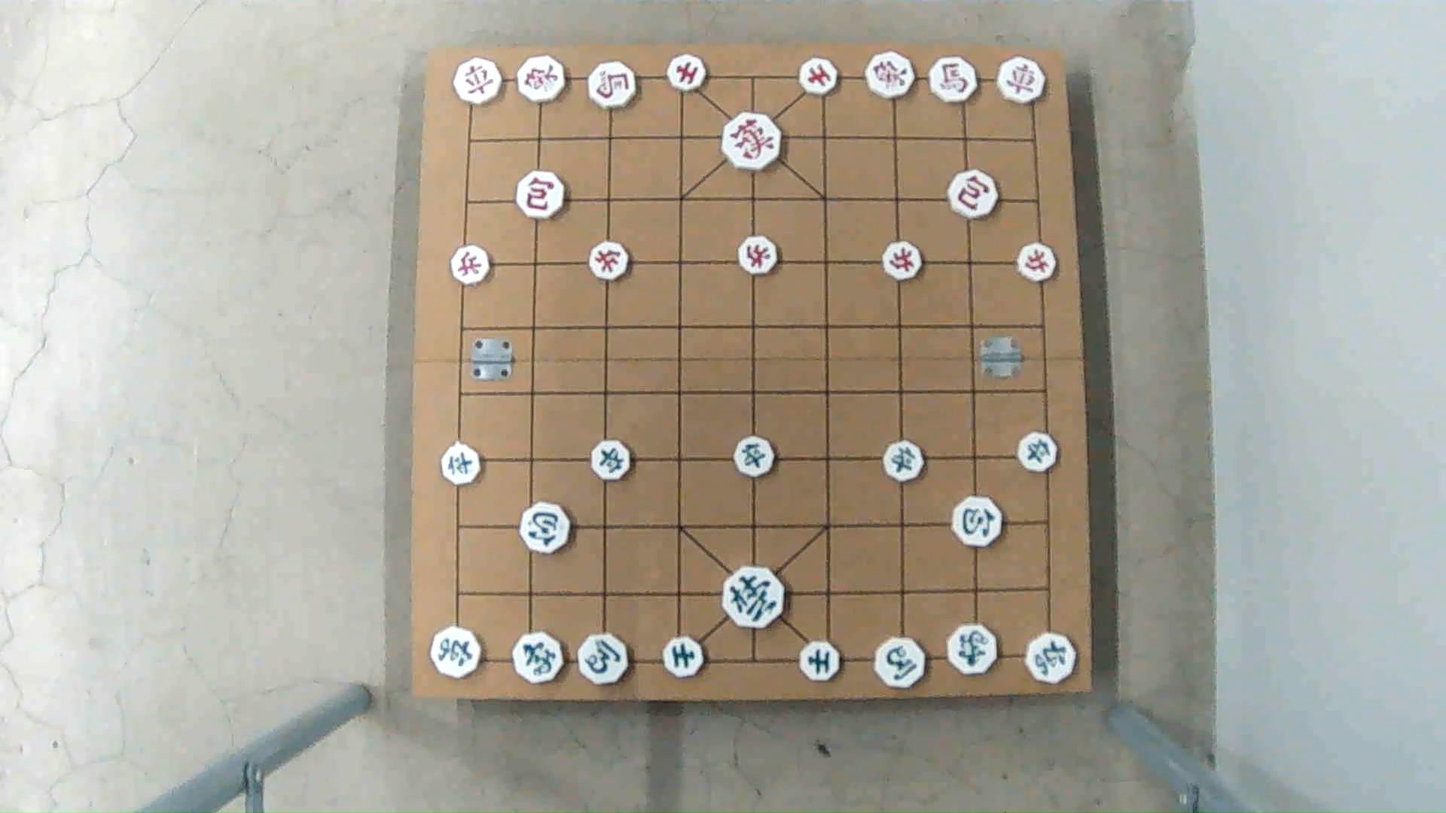cha_green: (428, 626, 482, 681), (1024, 632, 1078, 686)
cha_red: (453, 59, 505, 103), (996, 59, 1048, 102)
jol_green: (732, 437, 778, 479), (880, 442, 927, 481), (589, 443, 632, 481), (440, 446, 484, 483), (1015, 436, 1060, 472)
jol_red: (878, 241, 926, 282), (1014, 242, 1059, 281), (587, 241, 631, 279), (449, 246, 494, 283), (736, 236, 779, 273)
ma_green: (872, 636, 929, 689), (576, 635, 633, 684)
ma_red: (587, 60, 641, 111), (928, 56, 981, 103)
po_green: (950, 496, 1003, 547), (520, 503, 575, 551)
po_red: (515, 173, 568, 218), (947, 172, 999, 217)
sa_green: (660, 637, 703, 677), (798, 644, 842, 681)
sa_red: (795, 57, 839, 95), (667, 53, 708, 93)
sang_green: (944, 623, 999, 677), (509, 633, 564, 682)
sang_red: (517, 55, 572, 103), (866, 53, 920, 97)
wang_green: (721, 565, 787, 629)
wang_red: (720, 111, 786, 171)
